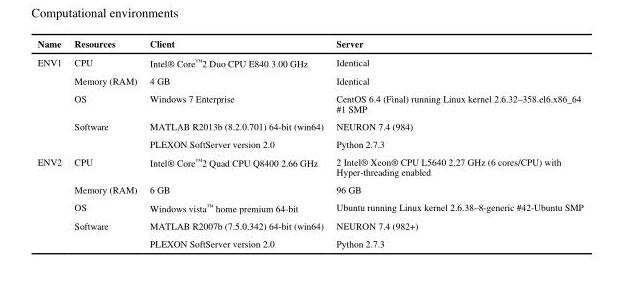table: (36, 36, 582, 249)
table column: (329, 36, 582, 249), (142, 36, 329, 249), (67, 36, 142, 249), (36, 36, 67, 249)
table column header: (36, 36, 582, 52)
table row: (36, 89, 582, 116), (36, 152, 582, 179), (36, 52, 582, 71), (36, 197, 582, 216), (36, 71, 582, 89), (36, 116, 582, 134), (36, 134, 582, 152), (36, 179, 582, 197), (36, 216, 582, 234), (36, 36, 582, 52), (36, 234, 582, 249)
table spanning cell: (36, 52, 67, 152), (36, 152, 67, 249)
